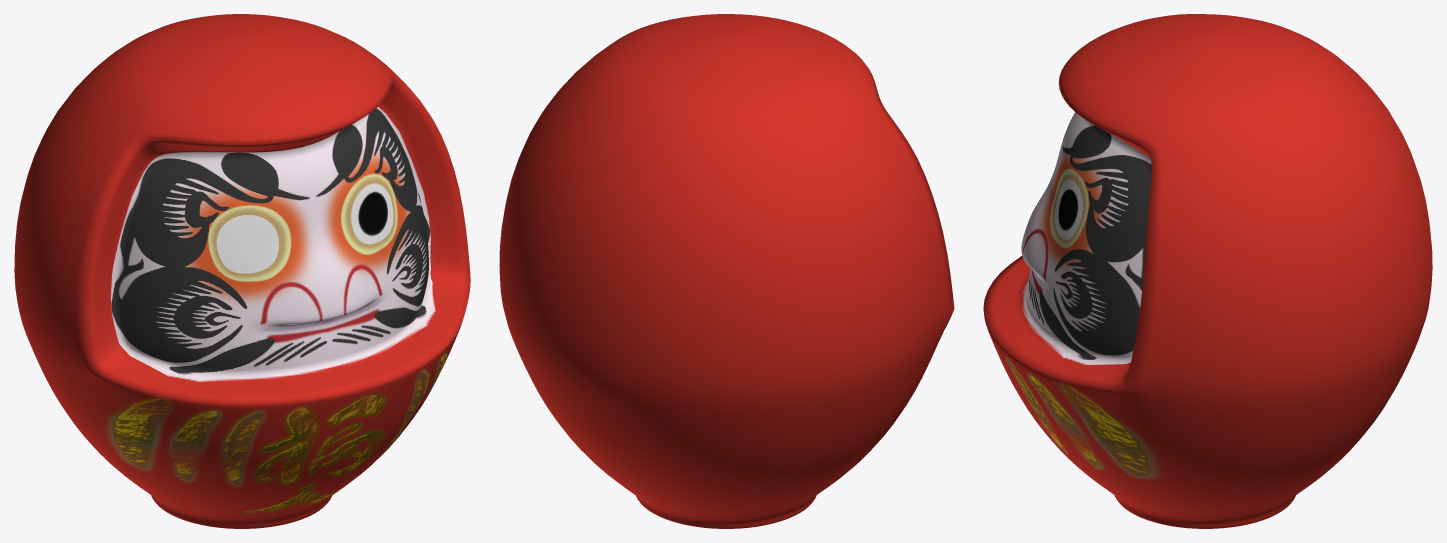
File: Daruma.fbx
3 views of the same model, side by side, from view 1: azimuth 30°, elevation 25°; view 2: azimuth 150°, elevation 25°; view 3: azimuth 270°, elevation 25° (orthographic).
Visible parts, largest first — view 1: Daruma; view 2: Daruma; view 3: Daruma.
Part boxes in pixels (<box>): Daruma: <box>14,14,470,528</box>; Daruma: <box>499,14,954,528</box>; Daruma: <box>983,14,1432,528</box>.
Size of the model in its own units: 54.7 by 60 by 53.95.
Materials: 1 (1 with a texture image).
